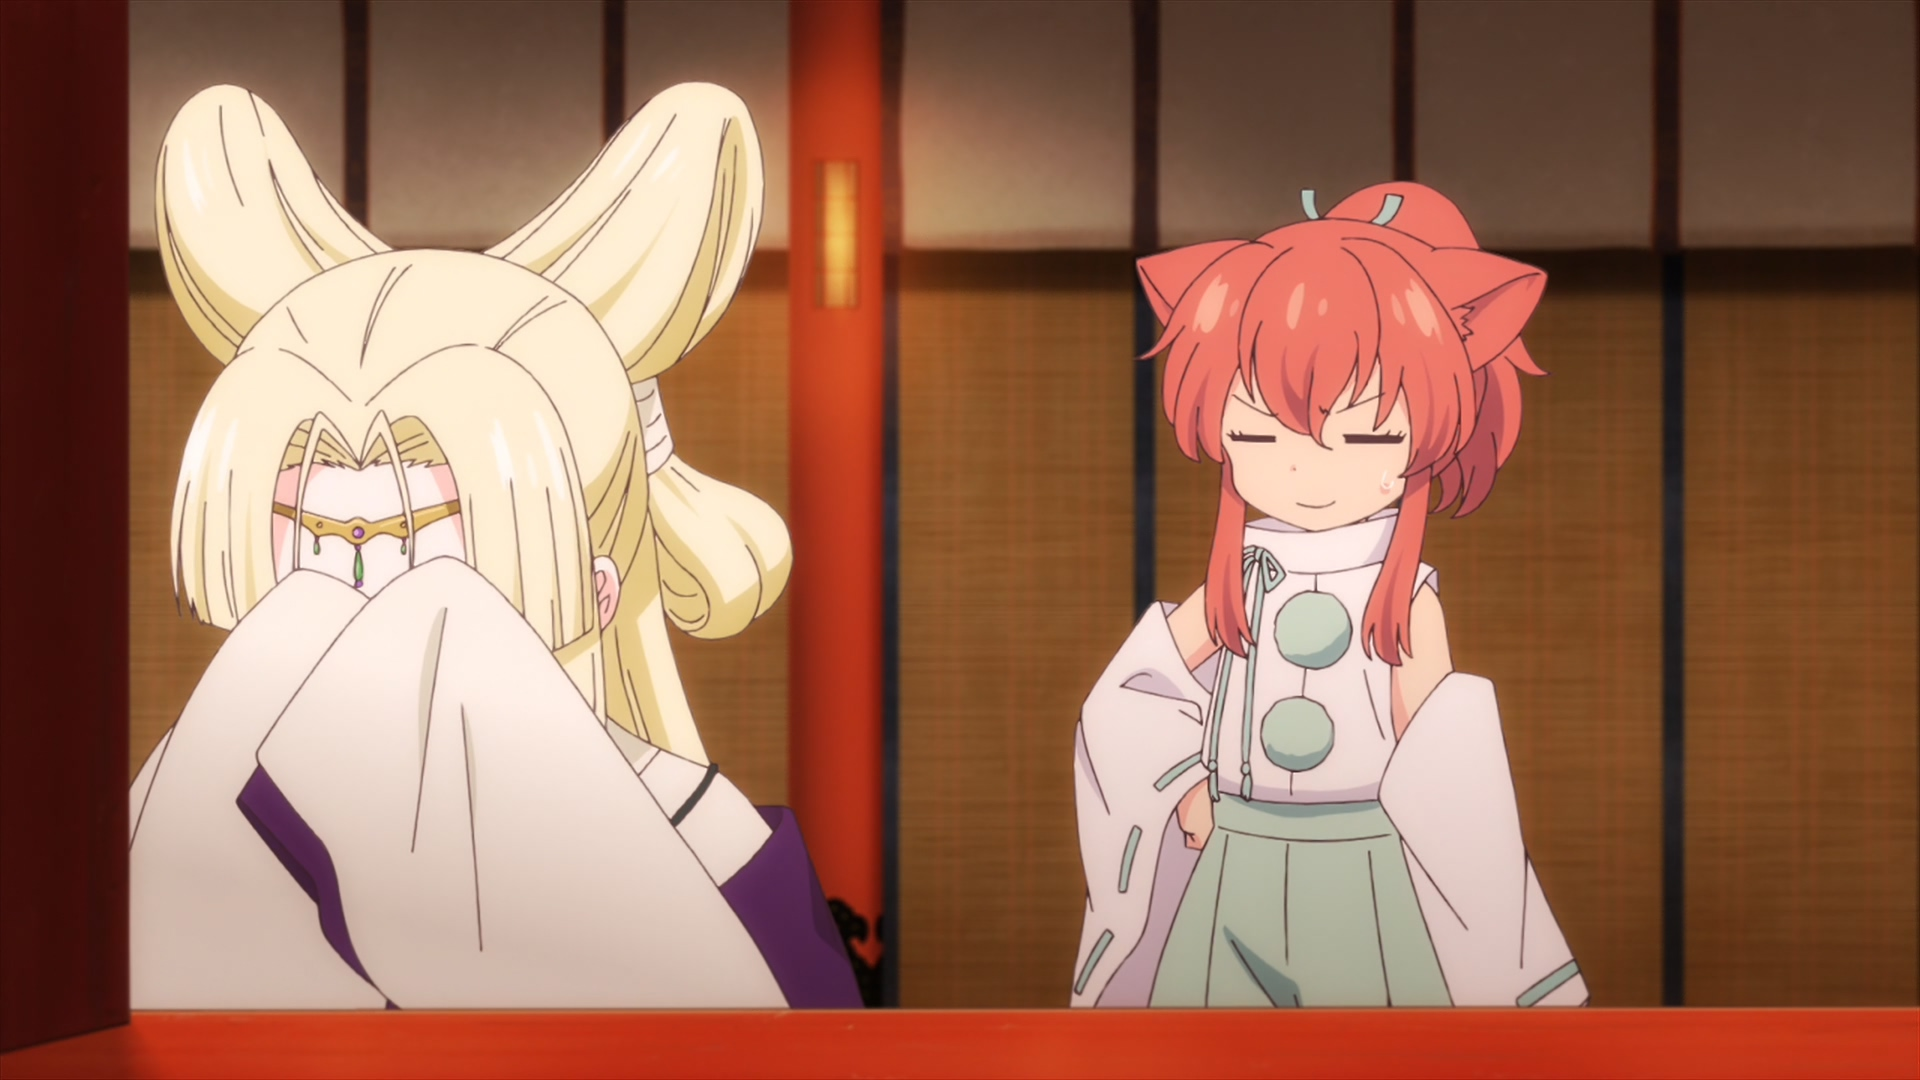其他: (131, 80, 862, 1007)
椿: (1073, 179, 1593, 1009)
